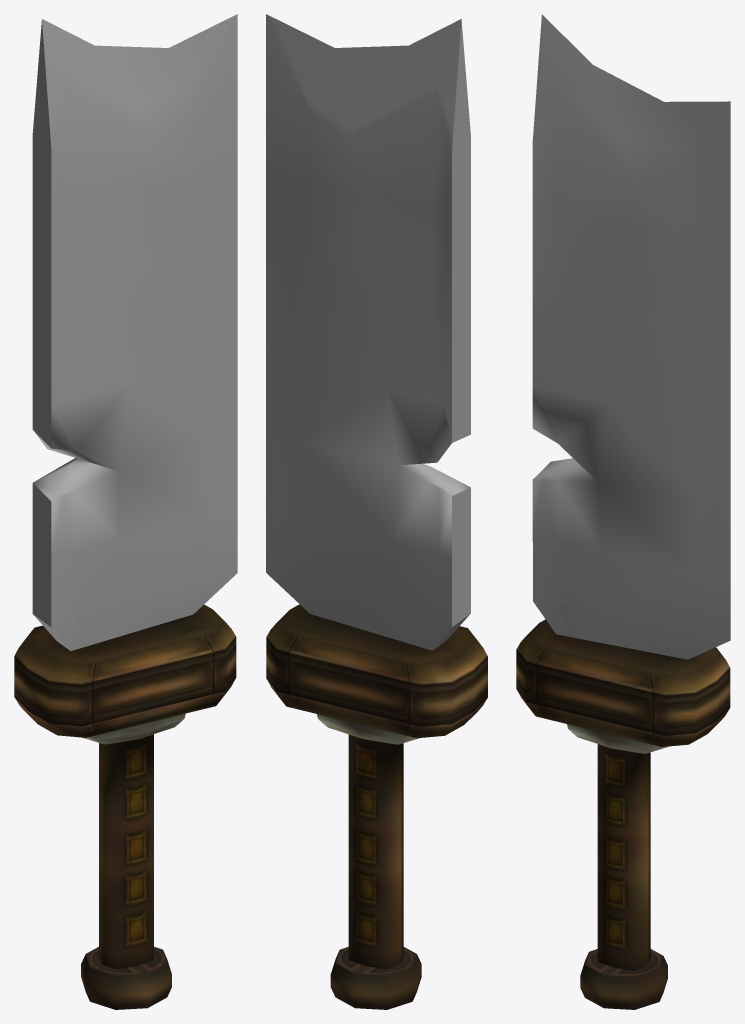
The model's file is GreateSword_01_High.fbx.
3 views of the same model, side by side, from view 1: azimuth 30°, elevation 25°; view 2: azimuth 150°, elevation 25°; view 3: azimuth 330°, elevation 25° (orthographic). The views are drawn at different scales.
Visible parts, largest first — view 1: Mod_GreateSword_01_High; view 2: Mod_GreateSword_01_High; view 3: Mod_GreateSword_01_High.
Boxes of the visible parts, x1,y1,x2,y2 form: Mod_GreateSword_01_High: (14,14,237,1009); Mod_GreateSword_01_High: (266,14,487,1009); Mod_GreateSword_01_High: (516,14,730,1009).
Size of the model in its own units: 17.56 by 80.05 by 8.32.
